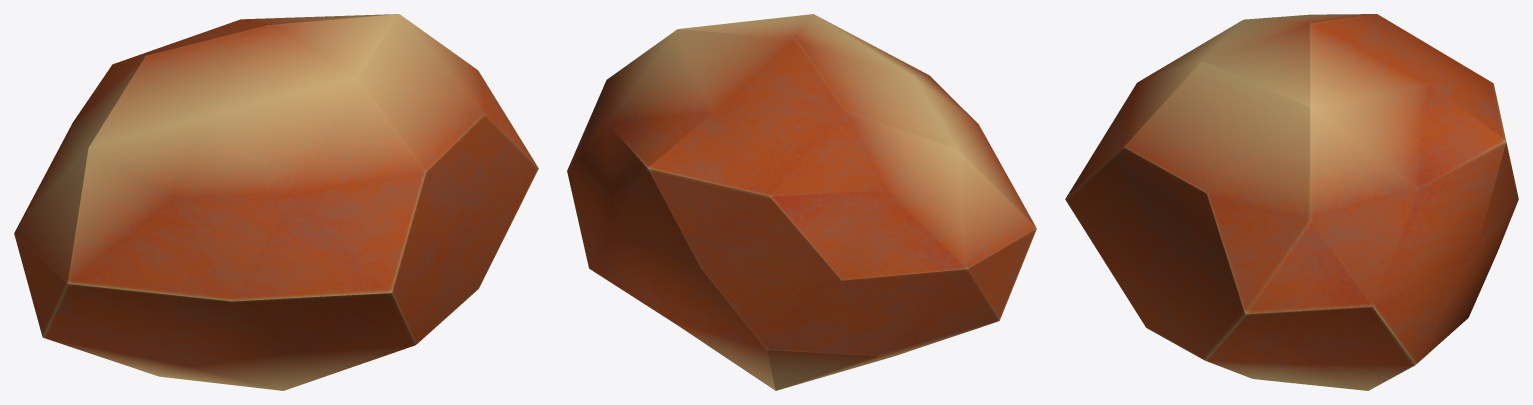
The model's file is w_rock1.fbx.
3 views of the same model, side by side, from view 1: azimuth 30°, elevation 25°; view 2: azimuth 150°, elevation 25°; view 3: azimuth 270°, elevation 25° (orthographic). The views are drawn at different scales.
Visible parts, largest first — view 1: Icosphere.007; view 2: Icosphere.007; view 3: Icosphere.007.
Boxes of the visible parts, x1,y1,x2,y2 form: Icosphere.007: (14, 14, 538, 390); Icosphere.007: (567, 14, 1036, 390); Icosphere.007: (1065, 14, 1518, 390).
Size of the model in its own units: 565 by 388 by 474.
1 material, 1 textured.
